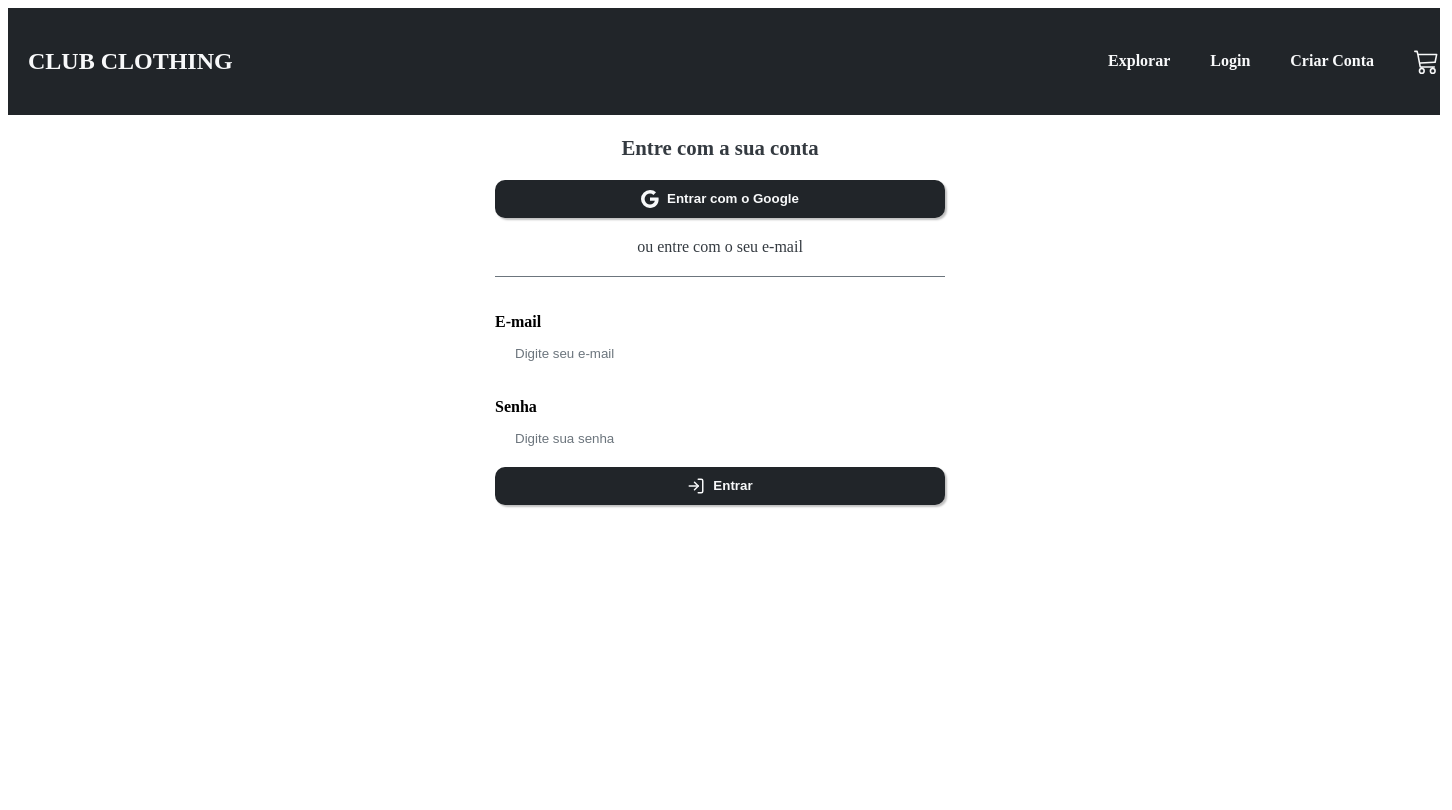
Scenario: Login › should show errors when trying to submit without filling all required fields
The width and height of the screenshot is (1452, 810).
Click the button "Entrar" at (720, 486), box [495,467,945,505]
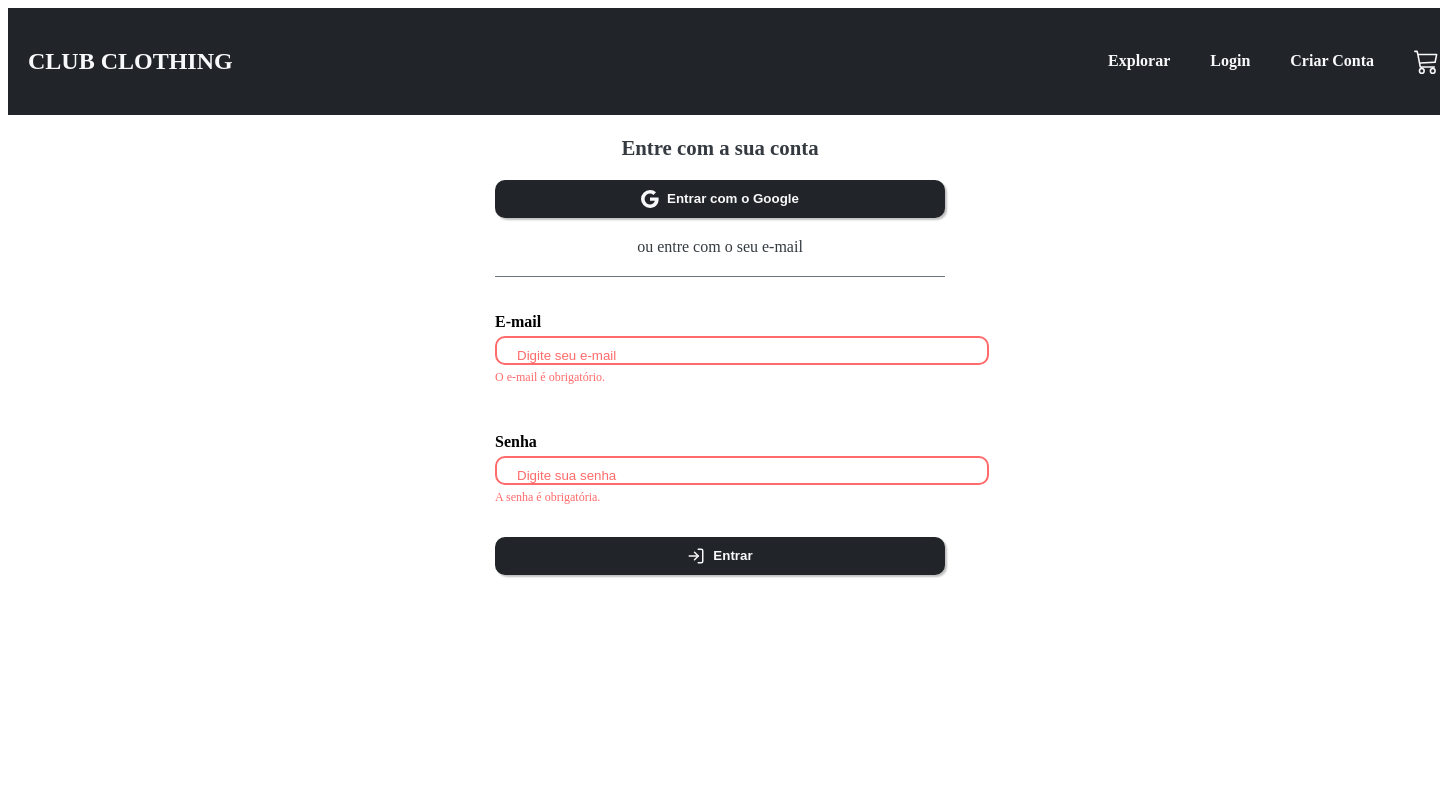
Expected: the text "O e-mail é obrigatório." is shown, [495,370,605,384]
